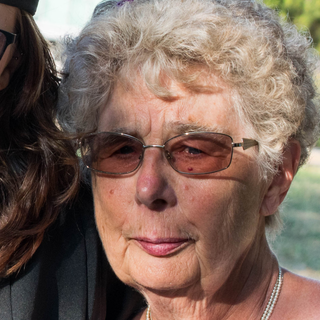eye: (173, 140, 212, 162)
